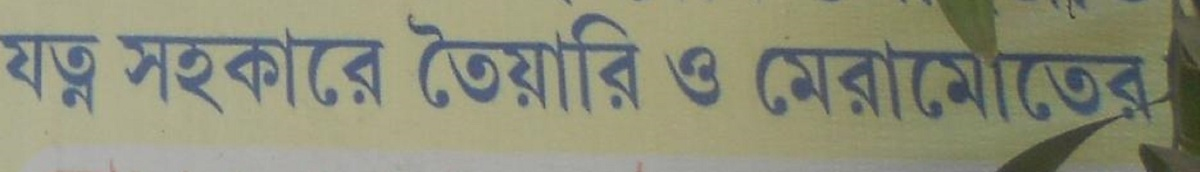text: (401, 9, 416, 118), (417, 9, 432, 118), (433, 9, 448, 118), (449, 9, 464, 118), (465, 9, 480, 118), (481, 9, 496, 118), (497, 9, 512, 118), (513, 9, 528, 118), (529, 9, 544, 118), (545, 9, 560, 118), (561, 9, 576, 118), (577, 9, 592, 118), (593, 9, 608, 118), (609, 9, 624, 118), (625, 9, 640, 118), (753, 33, 768, 131), (769, 33, 784, 131), (785, 33, 800, 131), (801, 33, 816, 131), (817, 33, 832, 131), (833, 33, 848, 131), (849, 33, 864, 131), (865, 33, 880, 131), (881, 33, 896, 131), (897, 33, 912, 131), (913, 33, 928, 131), (929, 33, 944, 131), (945, 33, 960, 131), (961, 33, 976, 131), (977, 33, 992, 131), (993, 33, 1008, 131), (1009, 33, 1024, 131), (1025, 33, 1040, 131), (1041, 33, 1056, 131), (1057, 33, 1072, 131), (1073, 33, 1088, 131), (1089, 33, 1104, 131), (1105, 33, 1120, 131), (1121, 33, 1136, 131), (1137, 33, 1152, 131), (129, 22, 144, 117), (145, 22, 160, 117), (161, 22, 176, 117), (177, 22, 192, 117), (193, 22, 208, 117), (209, 22, 224, 117), (225, 22, 240, 117), (241, 22, 256, 117), (257, 22, 272, 117), (273, 22, 288, 117), (289, 22, 304, 117), (305, 22, 320, 117), (321, 22, 336, 117), (337, 22, 352, 117), (353, 22, 368, 117), (369, 22, 384, 117), (17, 32, 32, 118), (33, 32, 48, 118), (49, 32, 64, 118), (65, 32, 80, 118), (81, 32, 96, 118), (115, 22, 128, 117), (2, 32, 16, 118), (641, 9, 650, 118), (673, 47, 688, 108), (689, 47, 704, 108), (705, 47, 720, 108), (747, 33, 752, 131), (1153, 33, 1157, 131), (666, 47, 672, 108), (721, 47, 727, 108), (897, 1, 912, 25), (913, 1, 928, 25), (929, 1, 944, 25), (945, 1, 960, 25), (961, 1, 976, 25), (977, 1, 992, 25), (993, 1, 1008, 25), (1009, 1, 1024, 25), (1025, 1, 1040, 25), (1041, 1, 1056, 25), (1057, 1, 1072, 25), (1073, 1, 1088, 25), (1089, 1, 1102, 25), (385, 22, 388, 117), (97, 153, 112, 172), (97, 32, 100, 118), (113, 153, 126, 172), (643, 161, 656, 171), (33, 1, 48, 8), (49, 1, 64, 8), (65, 1, 80, 8), (81, 1, 96, 8), (97, 1, 112, 8), (113, 1, 128, 8), (129, 1, 144, 8), (145, 1, 160, 8), (161, 1, 176, 8), (177, 1, 192, 8), (193, 1, 208, 8), (209, 1, 224, 8), (225, 1, 240, 8), (241, 1, 256, 8), (257, 1, 272, 8), (273, 1, 288, 8), (289, 1, 304, 8), (305, 1, 320, 8), (321, 1, 336, 8), (337, 1, 352, 8), (353, 1, 368, 8), (369, 1, 384, 8), (385, 1, 400, 8), (401, 1, 416, 8), (417, 1, 432, 8), (433, 1, 448, 8), (449, 1, 464, 8), (465, 1, 480, 8), (481, 1, 496, 8), (497, 1, 512, 8), (513, 1, 528, 8), (529, 1, 544, 8), (892, 1, 896, 25), (545, 1, 555, 8), (657, 161, 662, 171), (94, 153, 96, 172), (29, 1, 32, 8)
